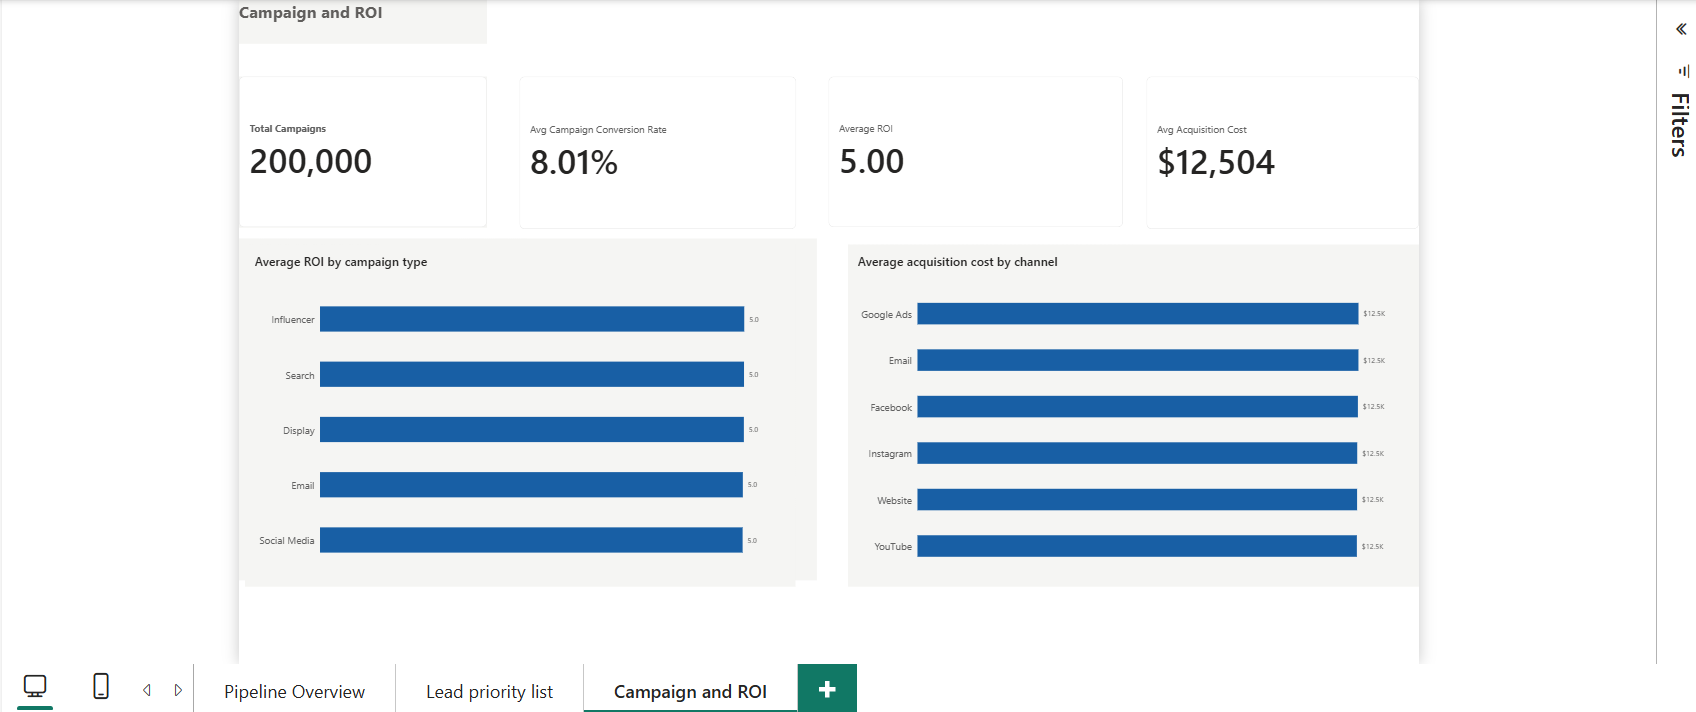

The dashboard page shown, as its layout file describes it:
{"tool":"powerbi","page":{"name":"Campaign and ROI","canvas":[1920,1080],"ordinal":2},"visuals":[{"type":"cardVisual","fields":{"Data":["salesmesh campaigns.Total Campaigns"]},"box":[0,124.1,403.2,245.7],"z":0},{"type":"cardVisual","fields":{"Data":["salesmesh campaigns.Avg Campaign Conversion Rate"]},"box":[455.7,124.1,450.9,248.1],"z":1000},{"type":"cardVisual","fields":{"Data":["salesmesh campaigns.Average ROI"]},"box":[959.1,124.1,479.6,245.7],"z":2000},{"type":"cardVisual","fields":{"Data":["salesmesh campaigns.Avg Acquisition Cost"]},"box":[1476.9,124.1,443.8,248.1],"z":3000},{"type":"textbox","box":[0,0,403.2,71.6],"z":4000},{"type":"clusteredBarChart","title":"Leads by priority tier","fields":{"Category":["salesmesh conversion_predictions.priority_tier"],"Y":["salesmesh leads.Total Leads"]},"box":[0,388.9,940.1,555.9],"z":5000},{"type":"clusteredBarChart","title":"Average ROI by campaign type","fields":{"Category":["salesmesh campaigns.campaign_type"],"Y":["salesmesh campaigns.Average ROI"]},"box":[10.6,398.3,895.4,557],"z":6000},{"type":"clusteredBarChart","title":"Average acquisition cost by channel","fields":{"Category":["salesmesh campaigns.channels_used"],"Y":["salesmesh campaigns.Avg Acquisition Cost"]},"box":[990.6,398.3,930.6,557],"z":7000}]}

Visuals, with their boxes on the page's 1920x1080 design canvas (x1, y1, x2, y2). These are canvas units, not pixel positions in the 1696x712 screenshot, which may show the page scaled, cropped or inside an application window:
cardVisual - salesmesh campaigns.Total Campaigns: box=[0, 124, 403, 370]
cardVisual - salesmesh campaigns.Avg Campaign Conversion Rate: box=[456, 124, 907, 372]
cardVisual - salesmesh campaigns.Average ROI: box=[959, 124, 1439, 370]
cardVisual - salesmesh campaigns.Avg Acquisition Cost: box=[1477, 124, 1921, 372]
textbox: box=[0, 0, 403, 72]
"Leads by priority tier" clusteredBarChart: box=[0, 389, 940, 945]
"Average ROI by campaign type" clusteredBarChart: box=[11, 398, 906, 955]
"Average acquisition cost by channel" clusteredBarChart: box=[991, 398, 1921, 955]
